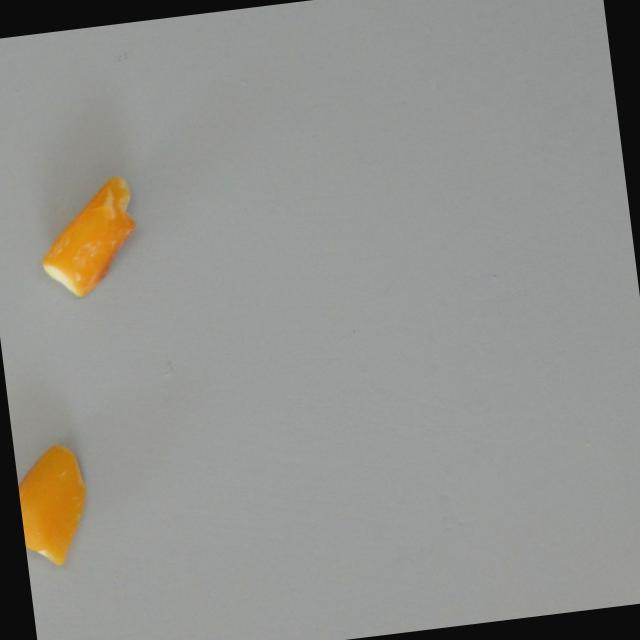dañado: (21, 167, 153, 307), (13, 434, 102, 572)
